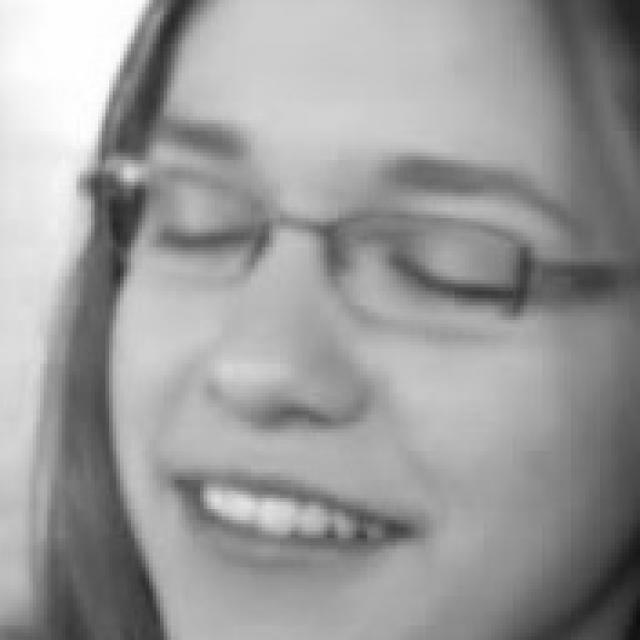real: (101, 30, 624, 626), (140, 160, 573, 328)
